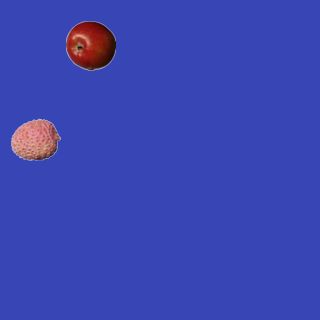Apple Braeburn: (65, 20, 115, 70)
Lychee: (10, 114, 60, 164)
